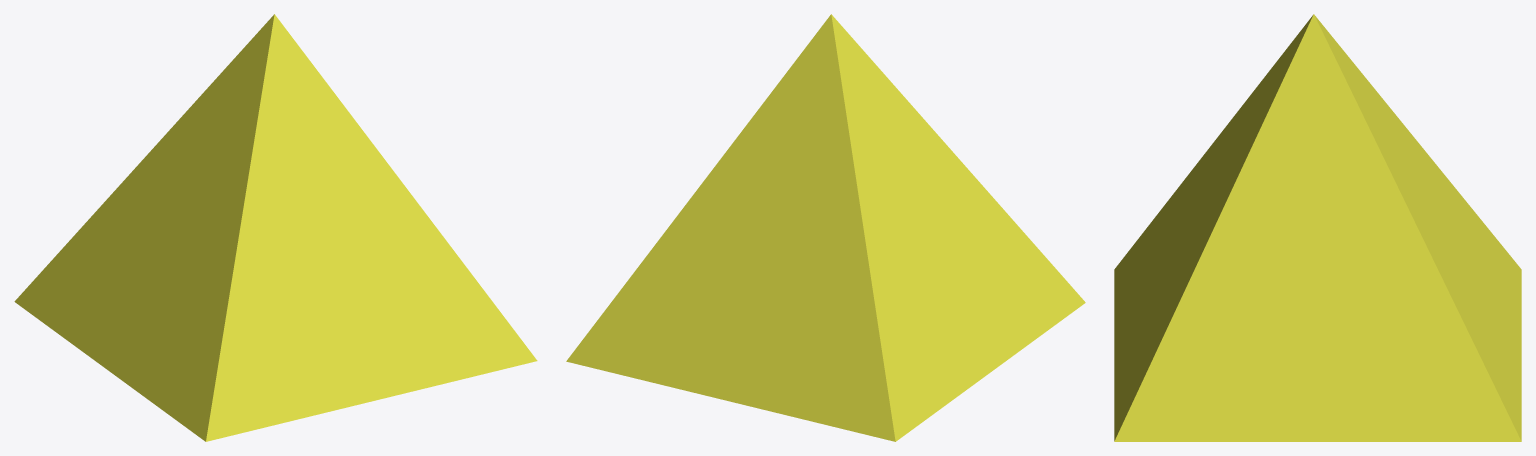
The model's file is pyramide1.fbx.
3 renders of one model, left to right at view 1: azimuth 30°, elevation 25°; view 2: azimuth 150°, elevation 25°; view 3: azimuth 270°, elevation 25°, orthographic. The views are drawn at different scales.
Parts seen in each view (by area): view 1: Cube.002; view 2: Cube.002; view 3: Cube.002.
Boxes of the visible parts, x1=… form: Cube.002: x1=14, y1=14, x2=537, y2=441; Cube.002: x1=566, y1=14, x2=1085, y2=441; Cube.002: x1=1114, y1=14, x2=1521, y2=441.
Size of the model in its own units: 107 by 98.91 by 107.
